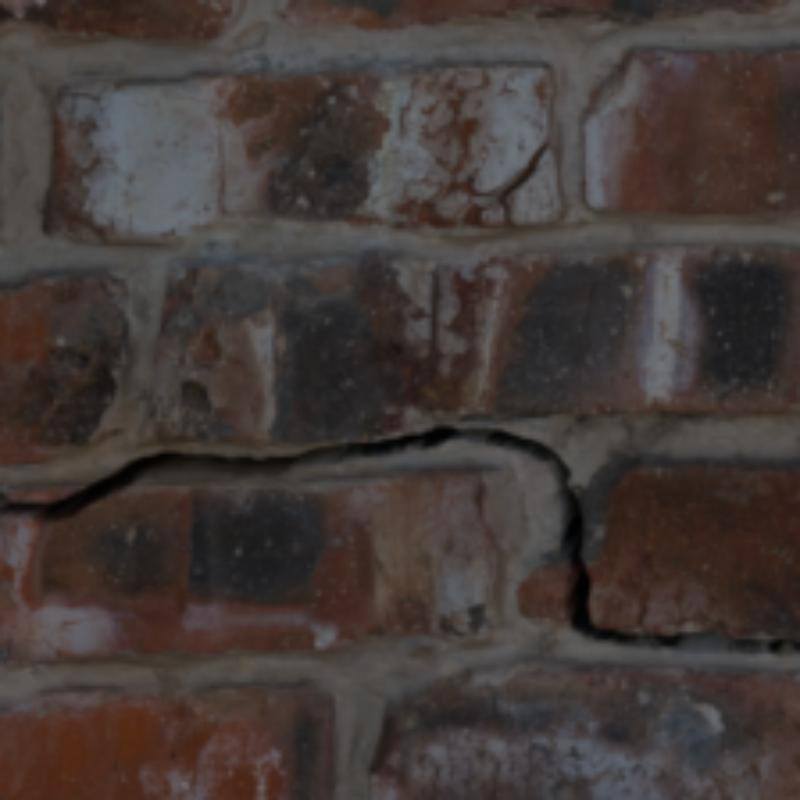pothole: (0, 425, 796, 654), (500, 143, 550, 221)
